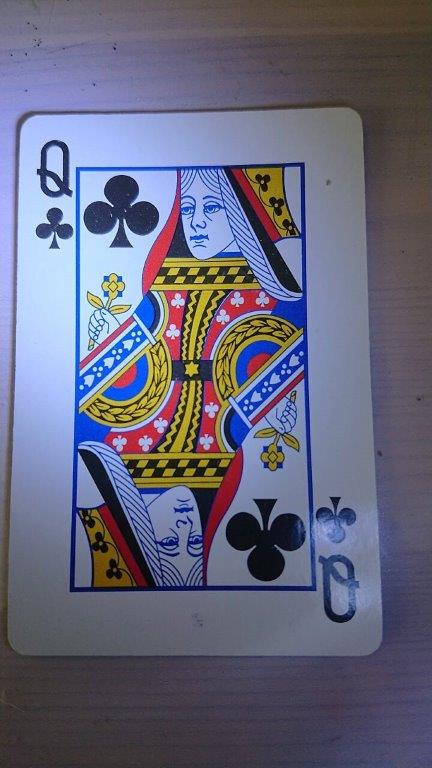QC: (4, 104, 385, 659)
